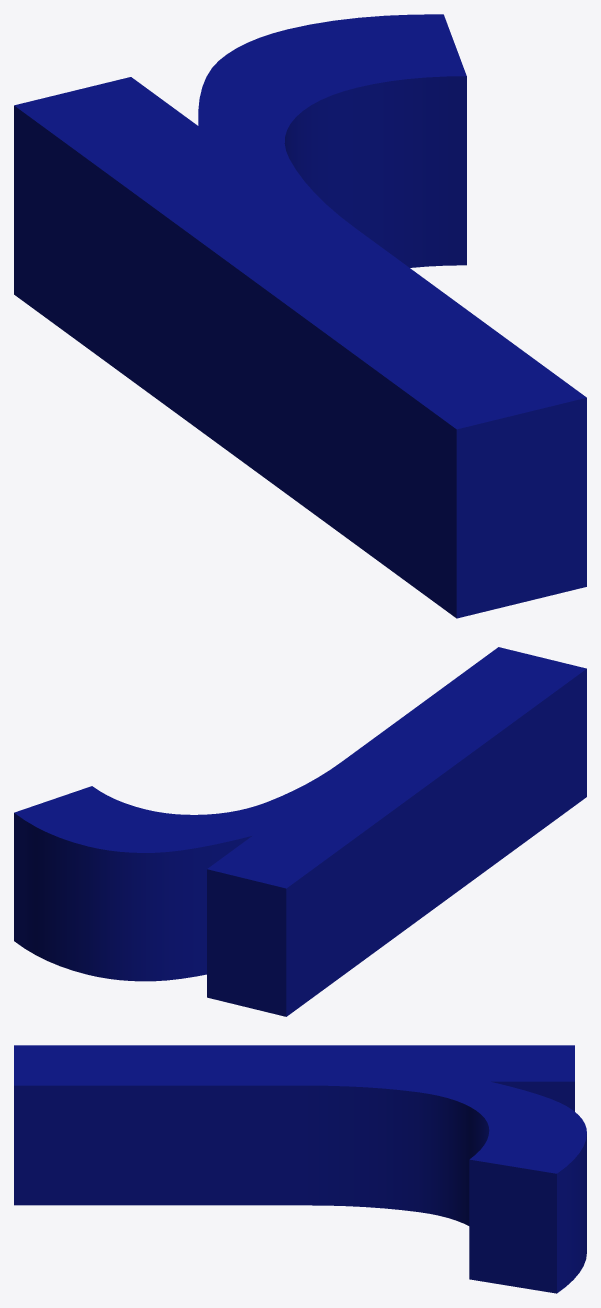
The picture shows the model from 3 angles, top to bottom: view 1: azimuth 30°, elevation 25°; view 2: azimuth 150°, elevation 25°; view 3: azimuth 270°, elevation 25°; orthographic projection. The views are drawn at different scales.
Visible parts, largest first — view 1: TextPlus044; view 2: TextPlus044; view 3: TextPlus044.
Boxes of the visible parts, x1,y1,x2,y2 form: TextPlus044: (14,14,586,618); TextPlus044: (14,647,586,1016); TextPlus044: (14,1045,586,1293).
Bounding box in the file's own units: 10.08 × 4.38 × 19.
